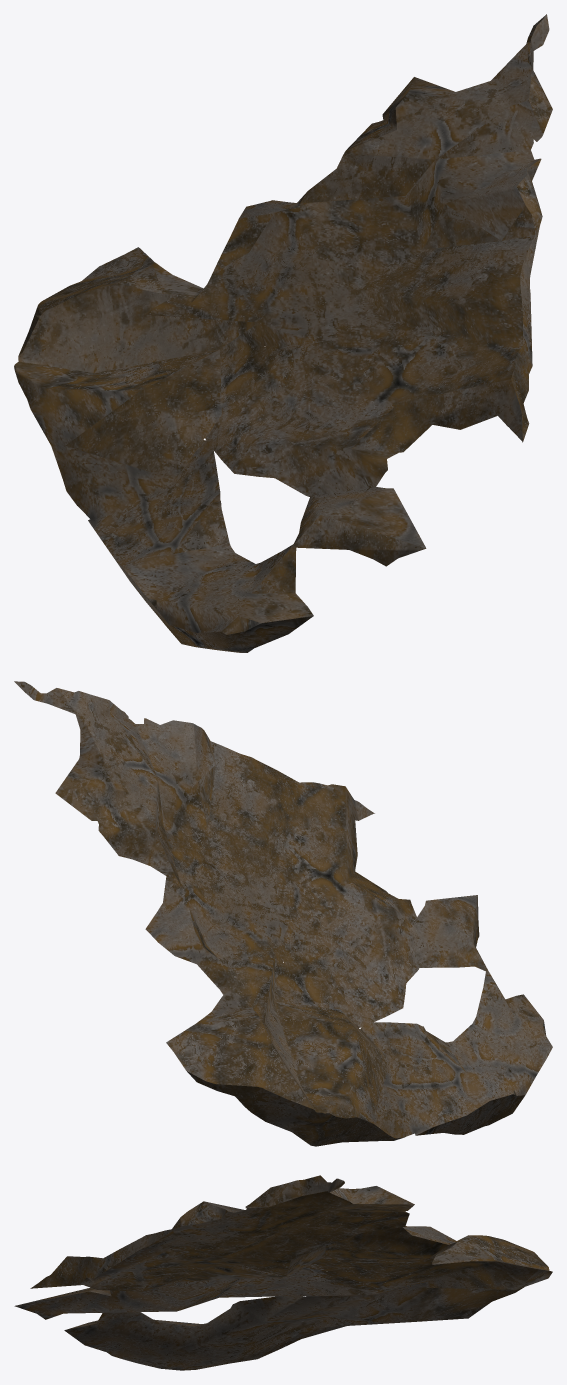
Rendered from RockShard7.fbx.
3 views of the same model, one above another, from view 1: azimuth 30°, elevation 25°; view 2: azimuth 150°, elevation 25°; view 3: azimuth 270°, elevation 25° (orthographic). The views are drawn at different scales.
Visible parts, largest first — view 1: RockShard7; view 2: RockShard7; view 3: RockShard7.
Part boxes in pixels (x1,y1,x2,y2): RockShard7: (14,14,552,652); RockShard7: (14,681,552,1146); RockShard7: (14,1175,552,1370).
Bounding box in the file's own units: 75.61 × 67.74 × 89.32.
